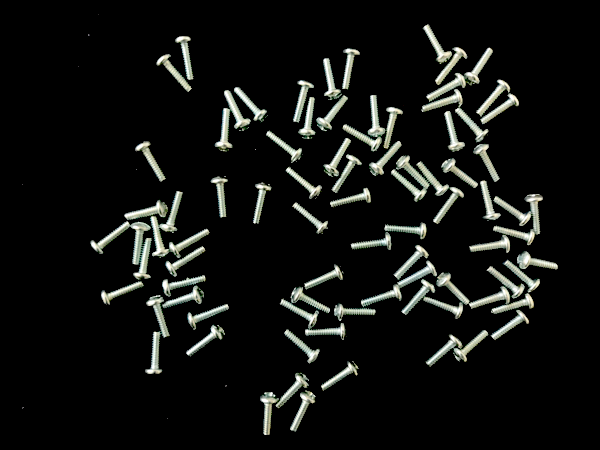shortscrew: (135, 140, 168, 184), (90, 222, 132, 256), (157, 54, 193, 93), (502, 260, 542, 294), (186, 324, 226, 358), (264, 131, 305, 164), (235, 87, 270, 125), (476, 79, 511, 117), (425, 334, 463, 369), (285, 167, 324, 201), (416, 161, 450, 200), (283, 330, 322, 364), (480, 94, 521, 126), (394, 245, 430, 281), (368, 141, 403, 178), (436, 47, 470, 85), (486, 267, 525, 300), (321, 359, 361, 391), (332, 155, 363, 196), (164, 247, 206, 277), (323, 137, 353, 179), (275, 373, 310, 409), (391, 170, 428, 204), (293, 203, 331, 236), (316, 95, 349, 133), (491, 311, 531, 342), (290, 390, 318, 434), (456, 109, 491, 144), (401, 281, 436, 316), (396, 154, 430, 190), (454, 330, 490, 364), (424, 24, 453, 66), (224, 90, 252, 133), (280, 299, 320, 329), (100, 282, 146, 308), (187, 304, 230, 331), (169, 229, 209, 258), (291, 286, 331, 315), (436, 272, 470, 306), (465, 48, 495, 86), (494, 197, 532, 227), (427, 73, 467, 101), (343, 125, 383, 153), (304, 264, 345, 291), (473, 144, 501, 183), (442, 158, 478, 188), (147, 296, 172, 339), (163, 286, 206, 311), (360, 284, 402, 309), (399, 260, 436, 288), (160, 191, 184, 234), (293, 80, 316, 124), (162, 275, 205, 298), (330, 187, 373, 210), (444, 111, 467, 153), (470, 285, 510, 309), (124, 200, 169, 221), (490, 293, 535, 314), (479, 181, 502, 222), (423, 297, 464, 320), (422, 90, 464, 112), (493, 225, 536, 246), (175, 36, 195, 81), (145, 332, 165, 377), (517, 251, 559, 272), (214, 109, 234, 153), (323, 58, 343, 102), (383, 106, 403, 149), (135, 237, 154, 282), (131, 223, 151, 265), (252, 183, 272, 225), (151, 216, 170, 260), (305, 323, 349, 342), (260, 393, 279, 437), (343, 48, 362, 91), (211, 177, 230, 218), (525, 194, 544, 235), (335, 303, 376, 322), (299, 98, 317, 141), (368, 95, 386, 138), (385, 223, 428, 241), (351, 233, 391, 252), (469, 236, 511, 254)
